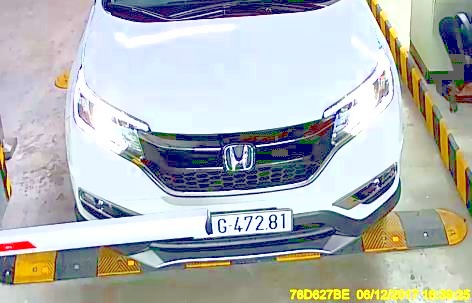plate: (212, 212, 296, 236)
